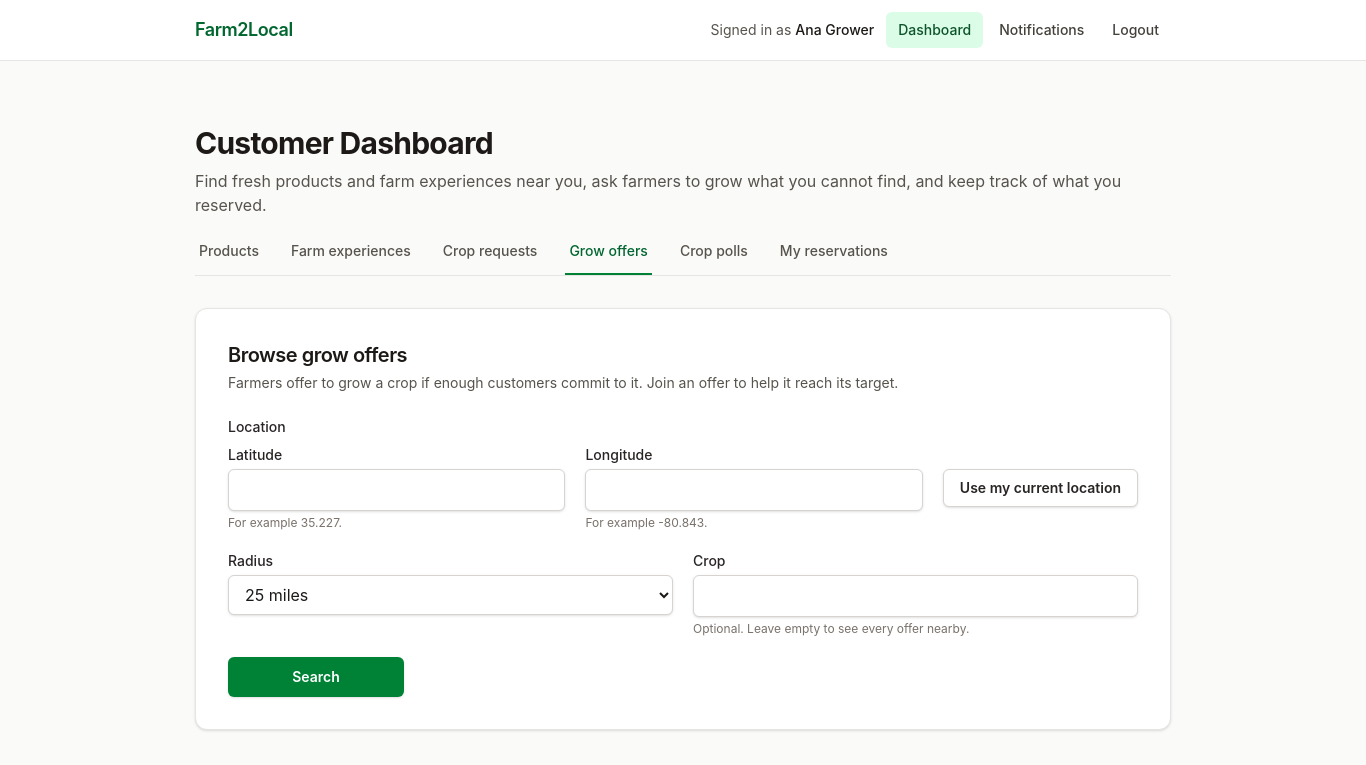
joining a grow offer › shows the offer as confirmed when the commitment reaches the minimum
Type "35.227" into the field labelled "Latitude".
click(397, 490); type("35.227")  # box 228,469 -> 565,511
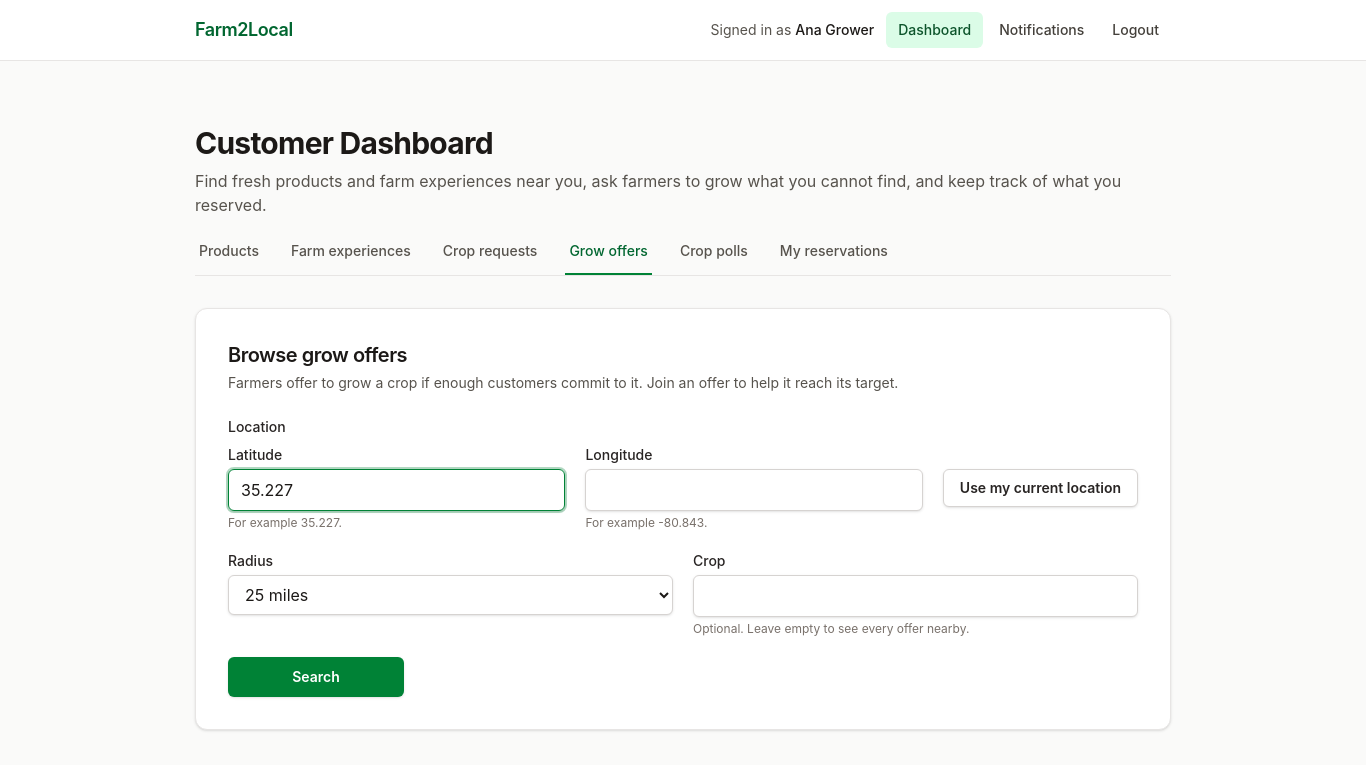
Type "-80.843" into the field labelled "Longitude".
click(754, 490); type("-80.843")  # box 585,469 -> 923,511
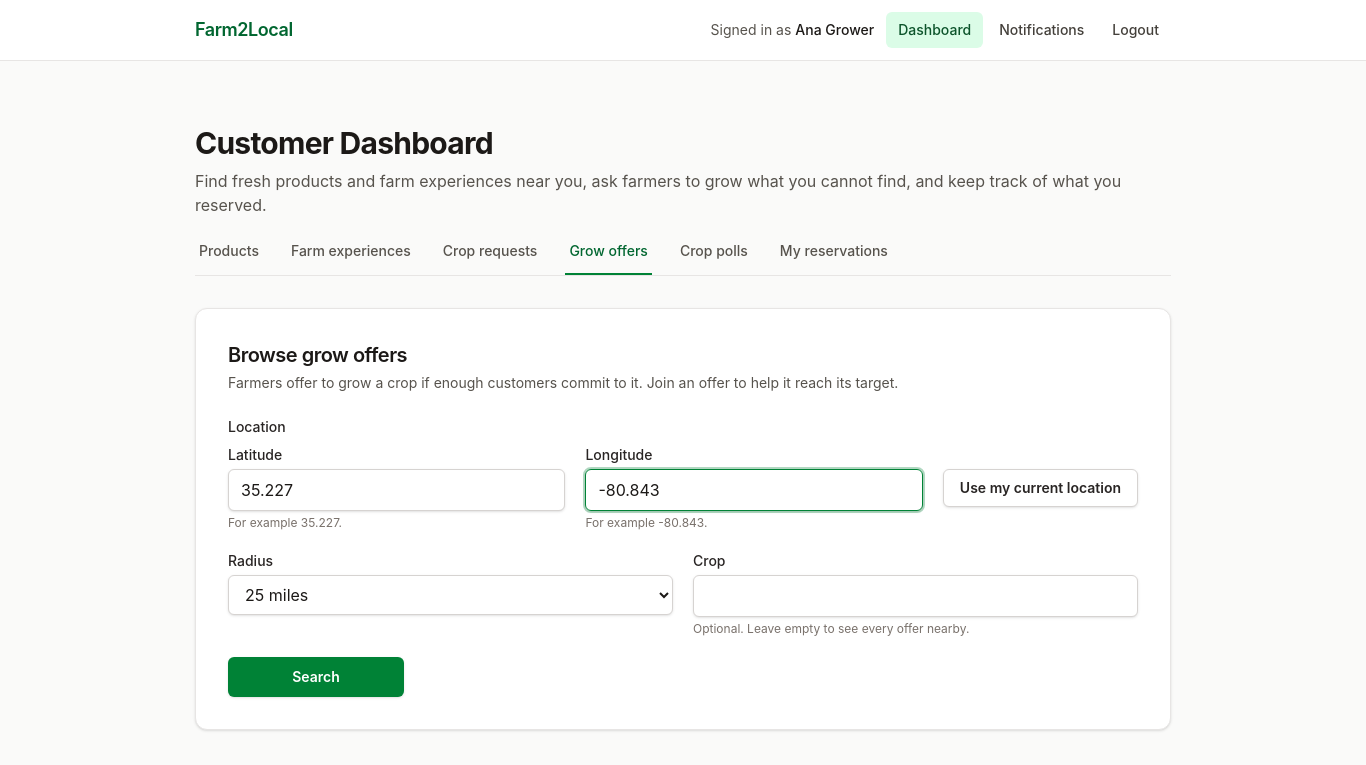
Click the button "Search".
click(316, 677)  # box 228,657 -> 404,697
(page scrolled)
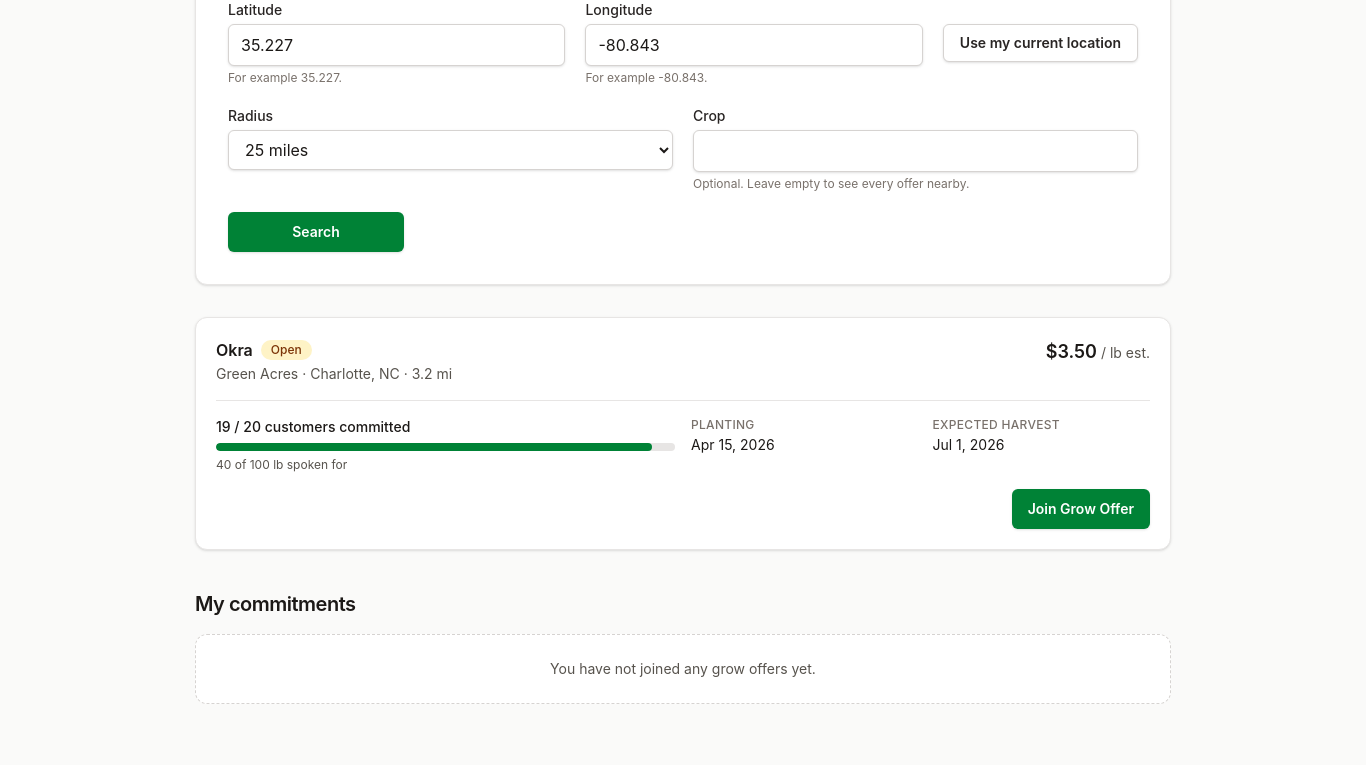
Expected: the text "Open" is shown, 261,340 -> 312,360
Click the button with aria-label "Join grow offer for Okra".
click(1081, 509)  # box 1012,489 -> 1150,529
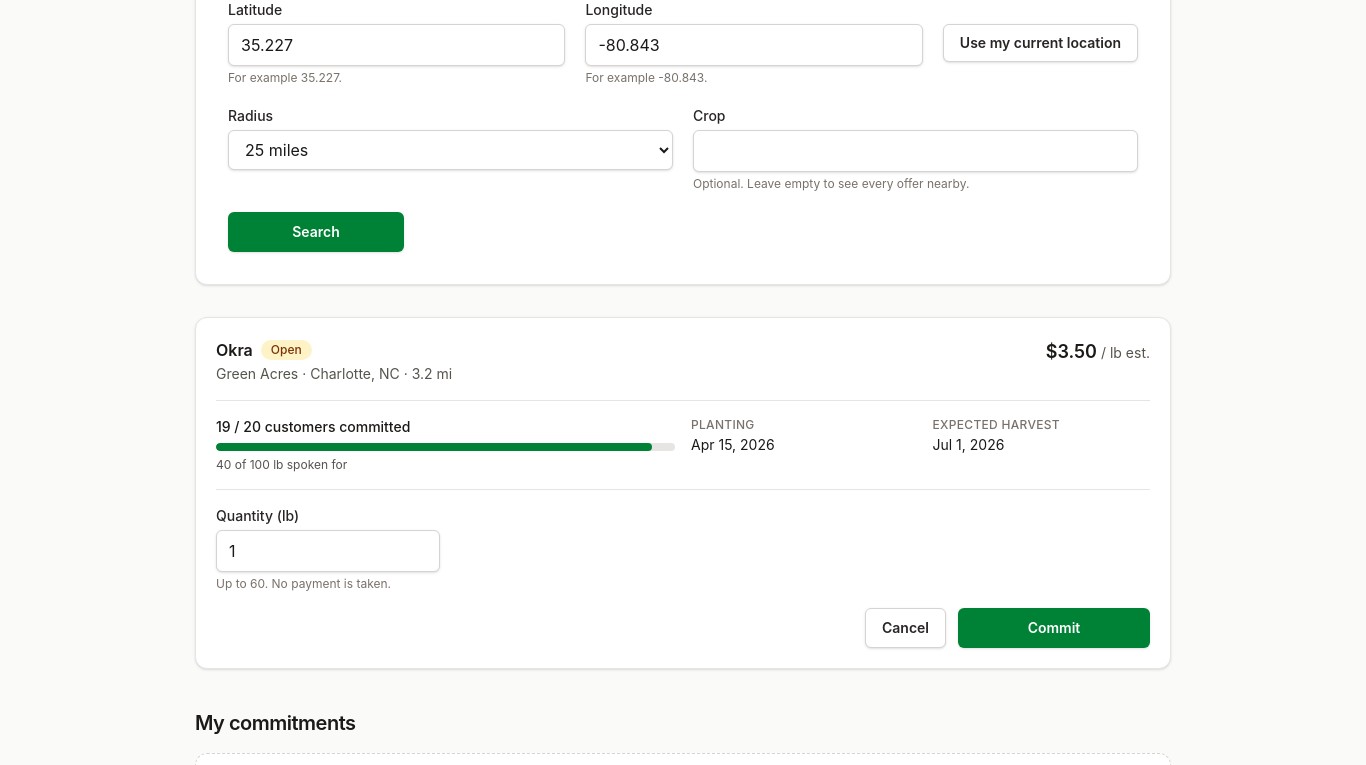
Click the button "Commit".
click(1054, 628)  # box 958,608 -> 1150,648
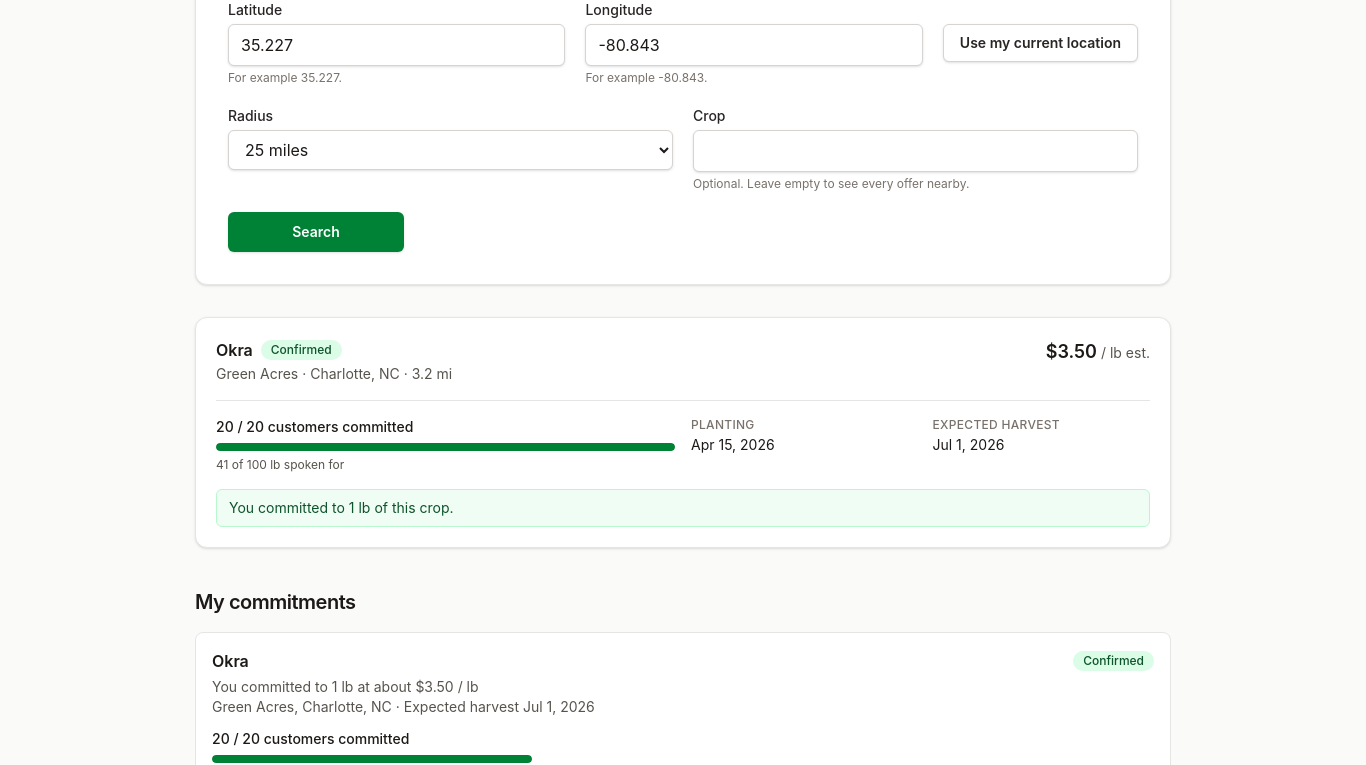
Expected: the text "Confirmed" in the row of "est." is shown, 271,342 -> 332,357
Expected: the text "20 / 20 customers committed" next to "Planting" is shown, 216,418 -> 413,435
